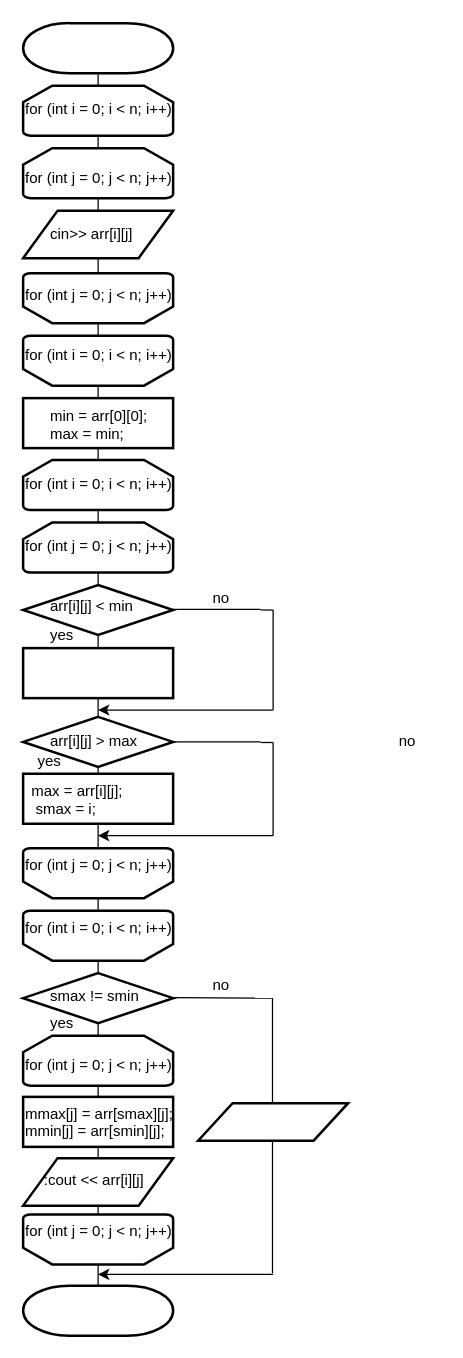
The diagram is 463 pixels wide and 1358 high, and some of its shapes have lost their labels. Each missing label, with the centre of its shape:
:"CTPoka=CToJl6y": point 272,1121
Begin: point 97,47
end: point 97,1310
min = arr[i][j]; smin = i;: point 97,672
